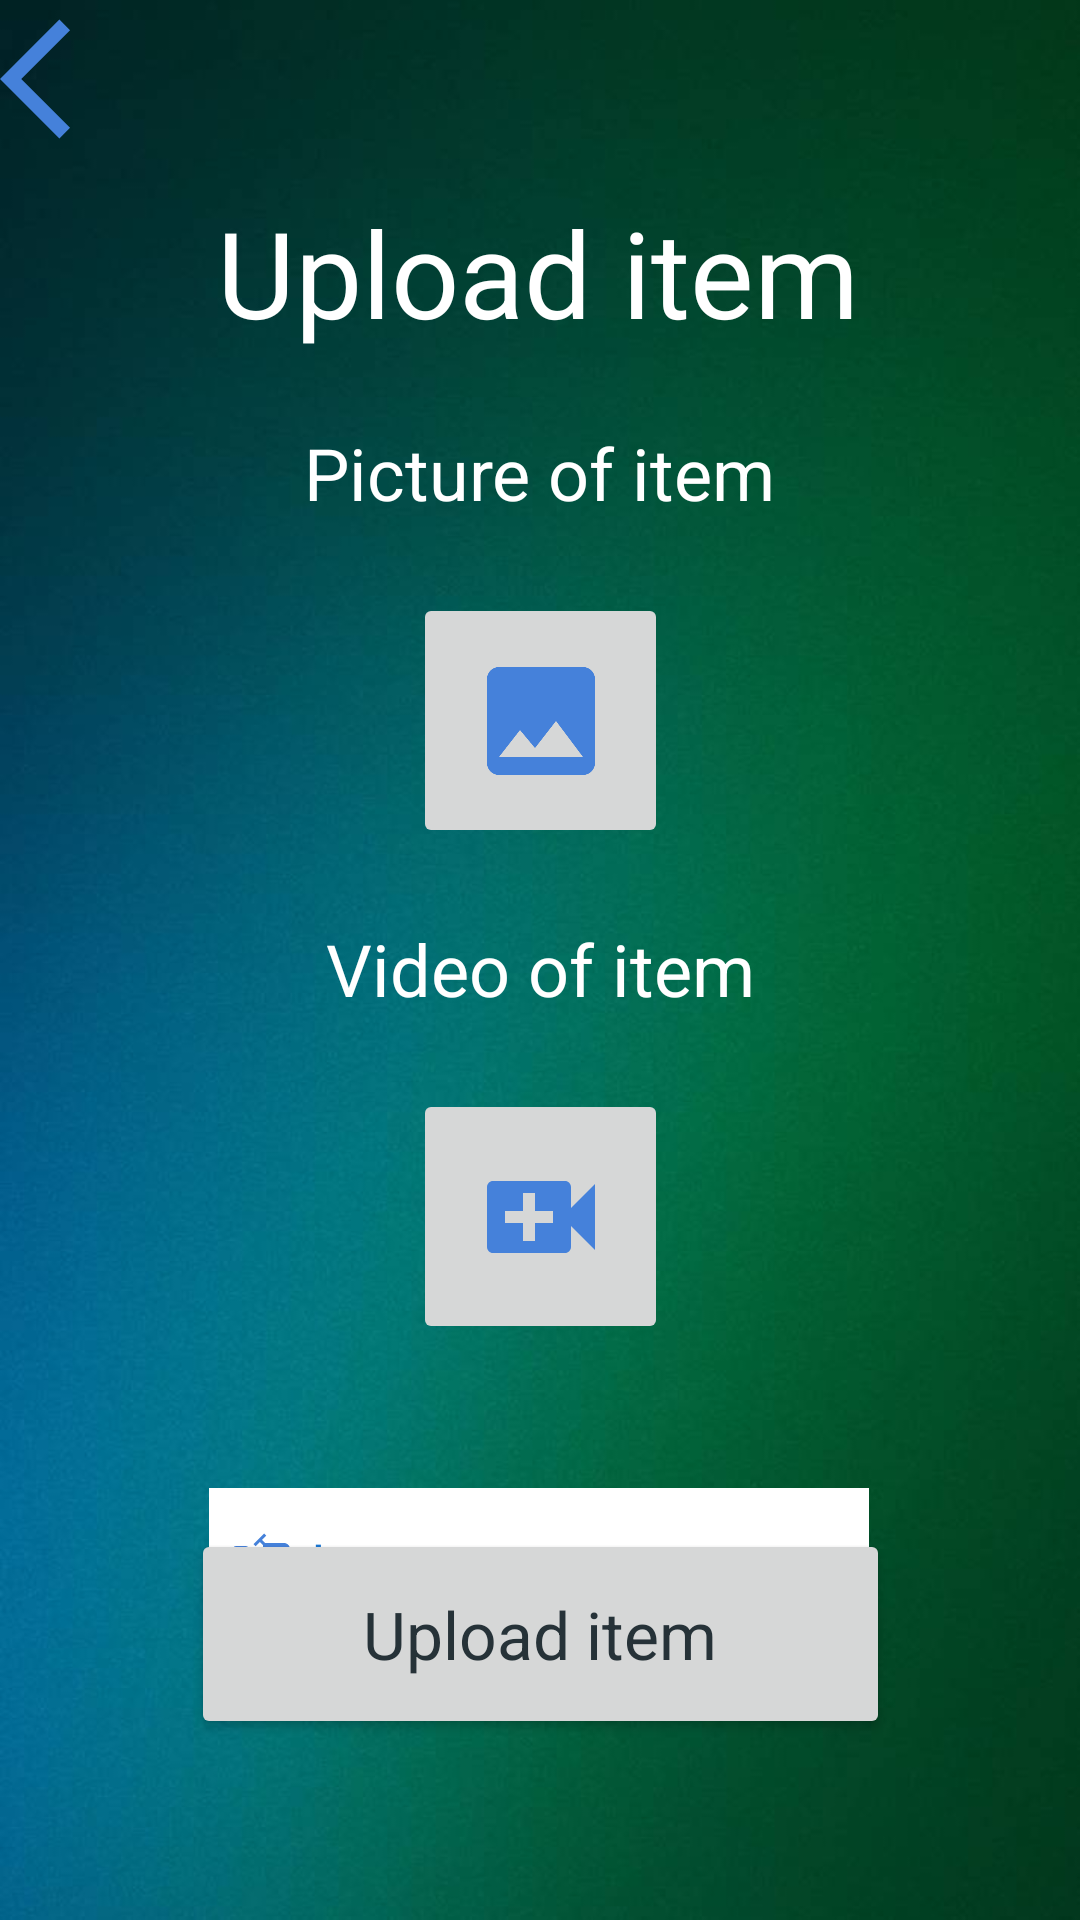

Screen size 1080×1920. Icon name, then its center in pixels as (x,y):
Add image: (534,729)
Add video: (540,1216)
Back button: (35,79)
